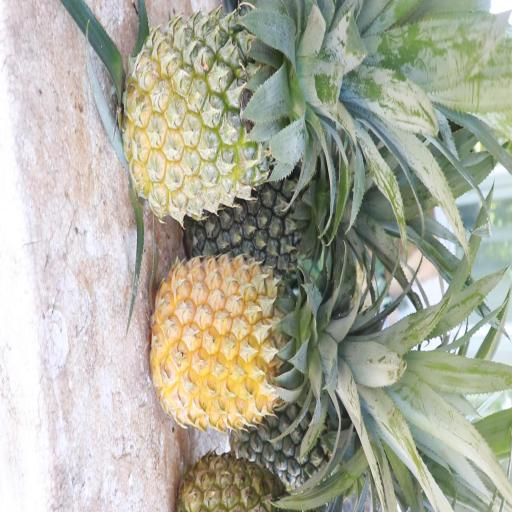------------------------------: (131, 12, 324, 214), (156, 250, 327, 434)
